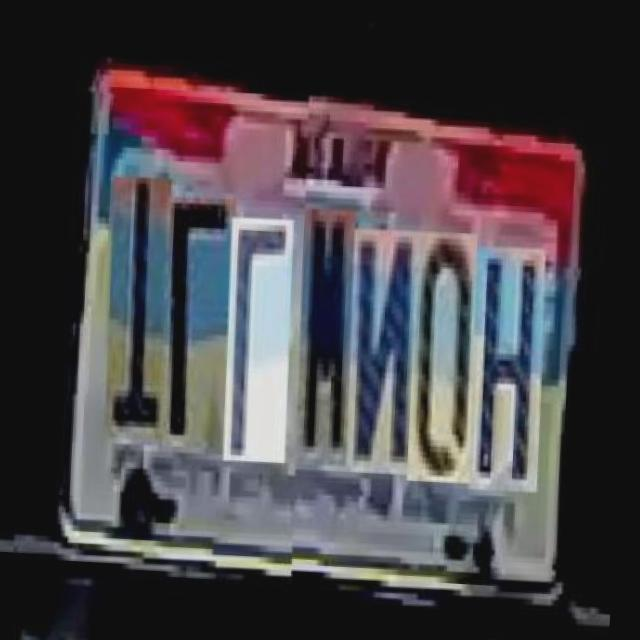0: (409, 232, 484, 485)
h: (470, 247, 552, 494)
l: (161, 195, 243, 453), (225, 215, 300, 461)
n: (349, 231, 431, 478)
t: (107, 175, 178, 439)
w: (298, 211, 362, 469)
